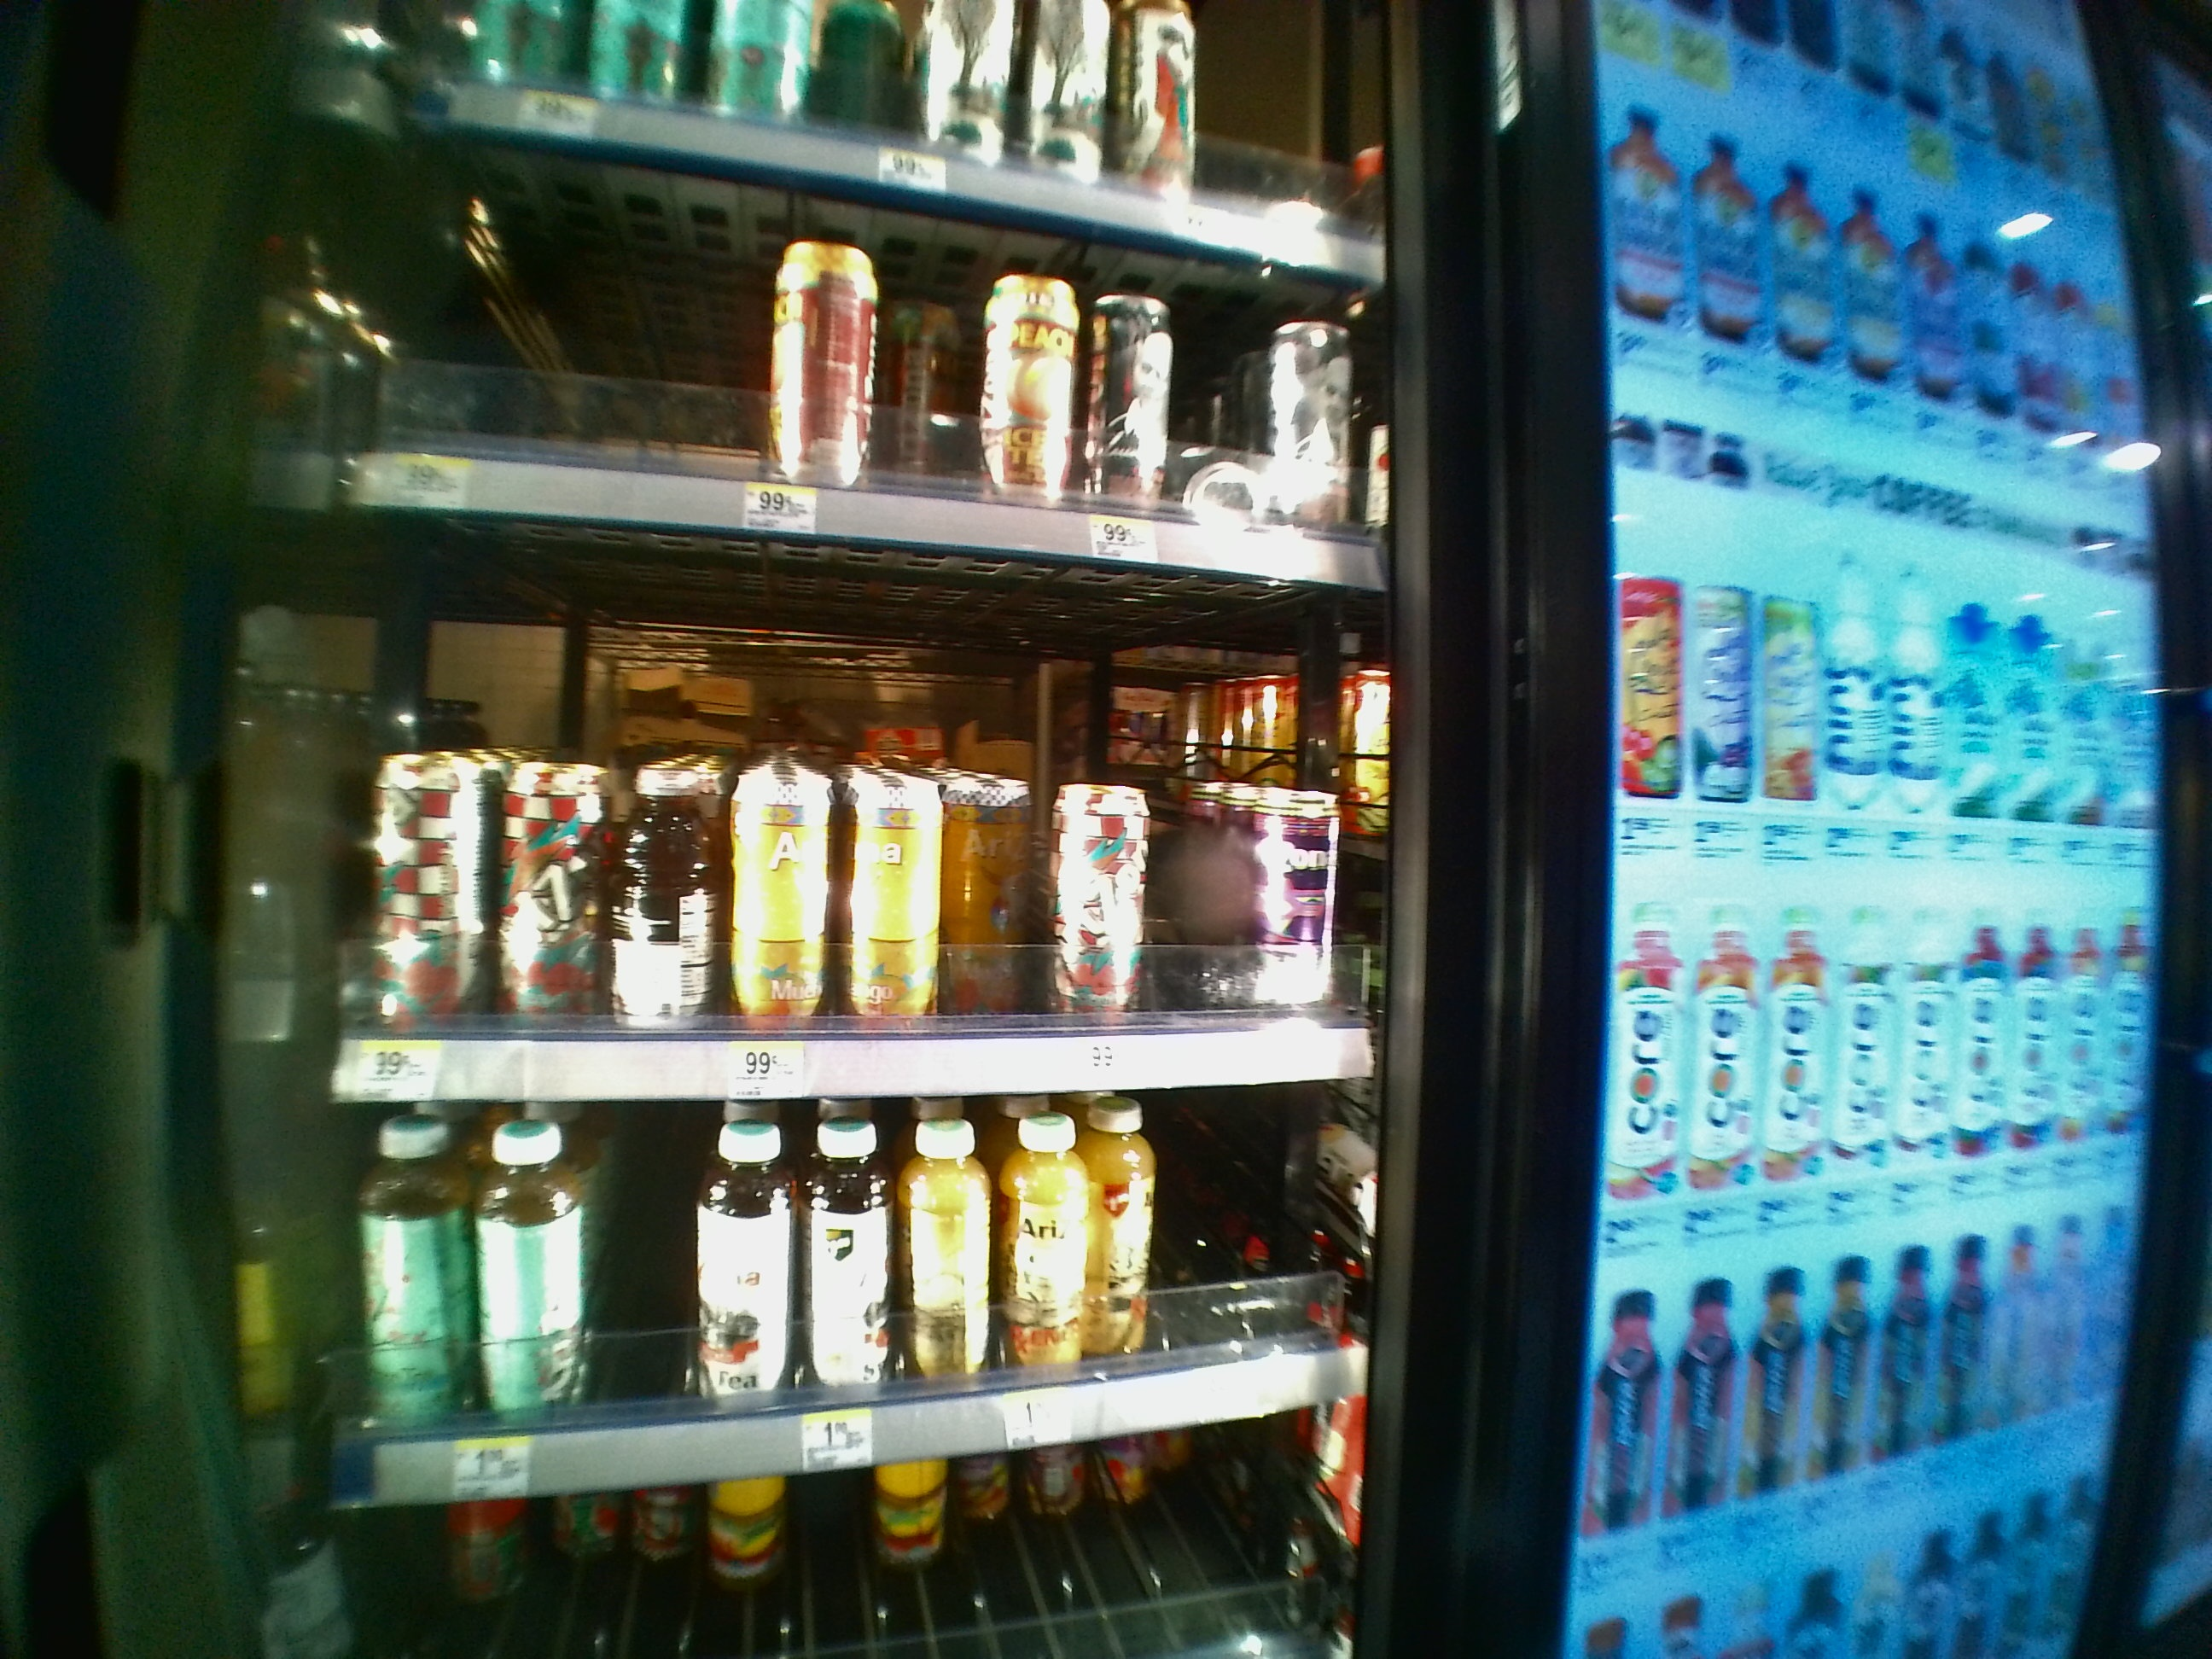shelf: (319, 507, 1378, 1094), (326, 1105, 1374, 1514)
